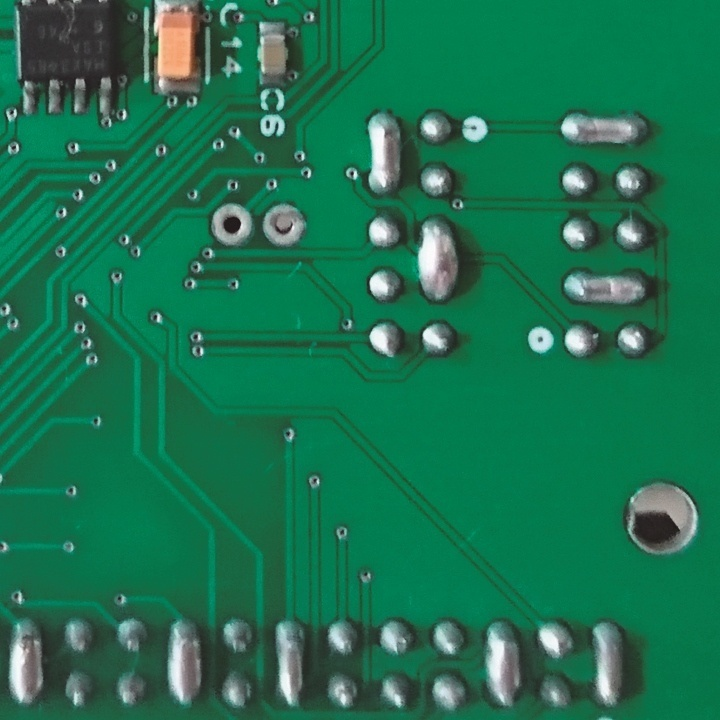F: (261, 196, 307, 252), (208, 204, 252, 247)
P: (553, 106, 653, 150), (414, 214, 461, 306), (484, 620, 527, 712), (589, 614, 629, 712), (561, 266, 652, 308), (271, 614, 308, 714), (364, 108, 405, 197), (8, 613, 45, 709), (166, 618, 196, 708)
